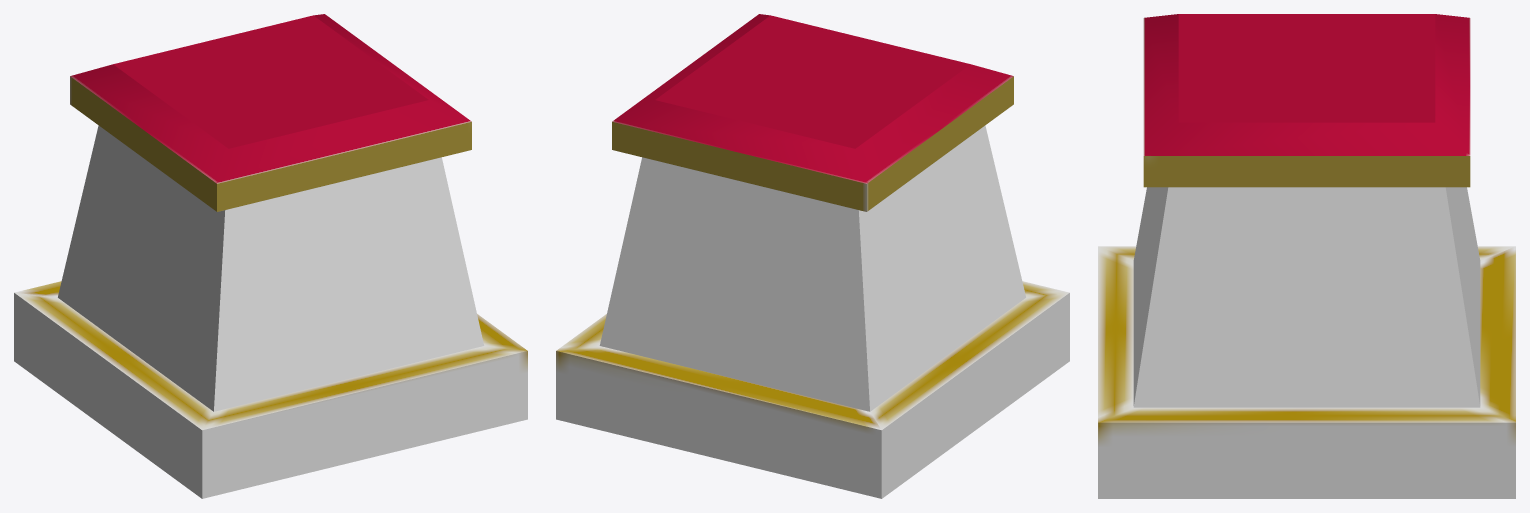
Rendered from Table.fbx.
3 views of the same model, side by side, from view 1: azimuth 30°, elevation 25°; view 2: azimuth 150°, elevation 25°; view 3: azimuth 270°, elevation 25° (orthographic). The views are drawn at different scales.
Parts seen in each view (by area): view 1: Table; view 2: Table; view 3: Table.
Part boxes in pixels (bbox=[...]): Table: bbox=[14, 14, 527, 498]; Table: bbox=[556, 14, 1069, 498]; Table: bbox=[1098, 14, 1515, 498].
Bounding box in the file's own units: 93.78 × 84.82 × 93.78.
Materials: 1 (1 with a texture image).
